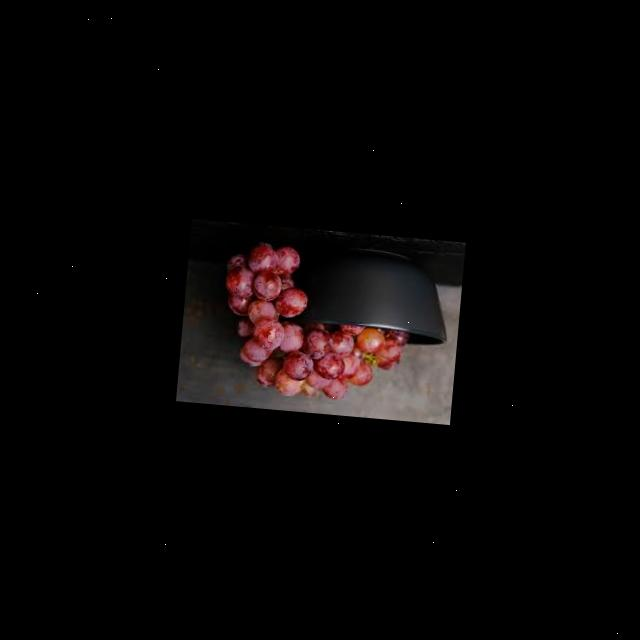grape: (214, 238, 415, 406)
